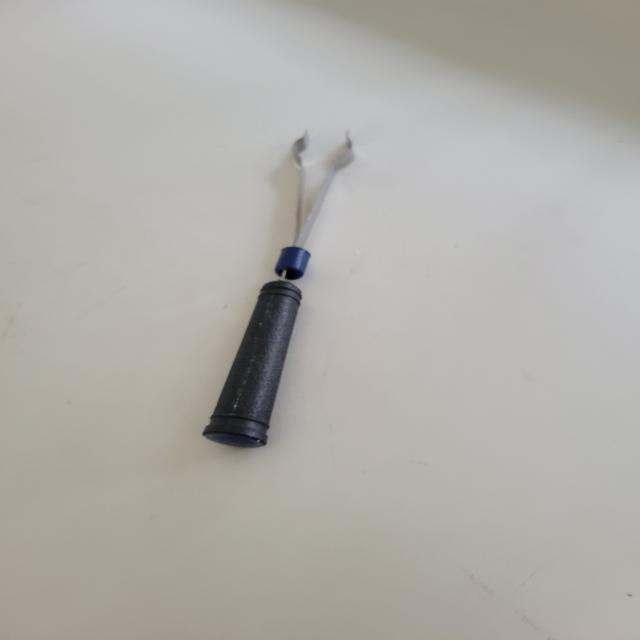TestTube_Holder: (161, 86, 411, 480)
